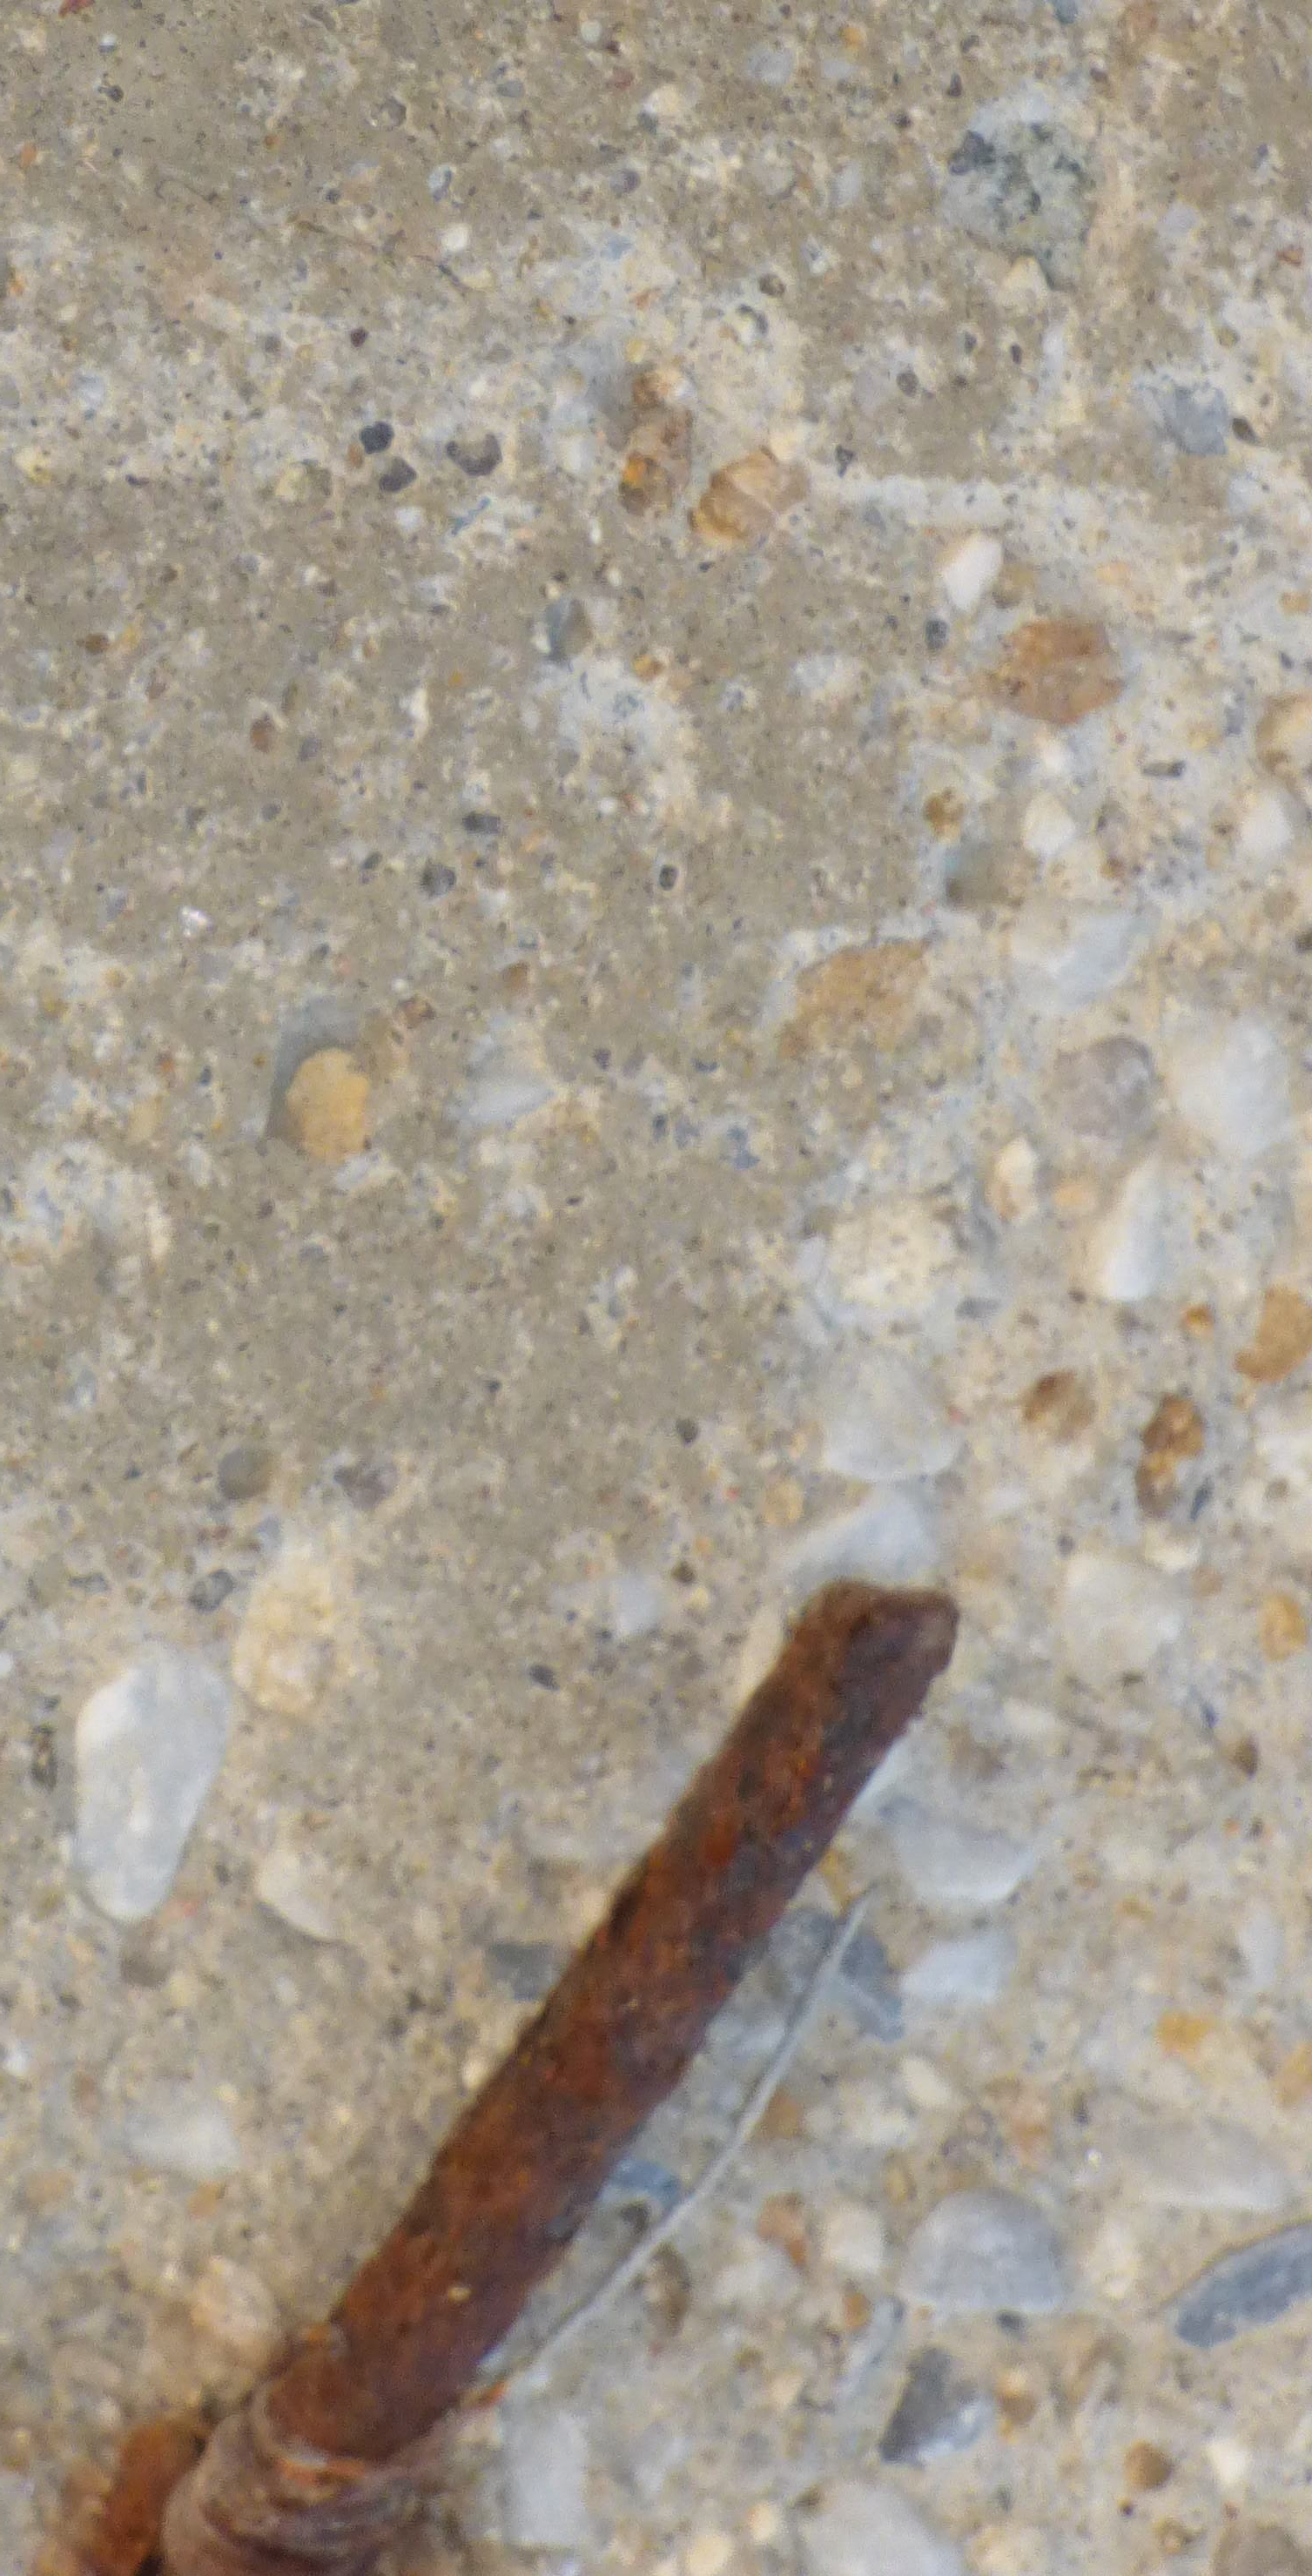Exposed reinforcement: (152, 1572, 961, 2576)
